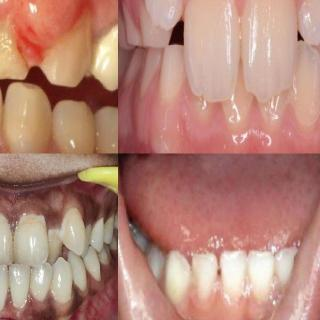Gum Swelling: (0, 0, 102, 69)
maligned: (138, 0, 198, 28), (291, 0, 320, 41), (63, 201, 85, 250), (8, 261, 30, 305), (28, 262, 52, 302), (310, 47, 320, 113), (55, 261, 73, 297), (49, 223, 67, 257), (311, 16, 320, 61), (82, 220, 92, 258), (0, 262, 5, 306)
plaque: (13, 208, 48, 236), (46, 222, 65, 248)
